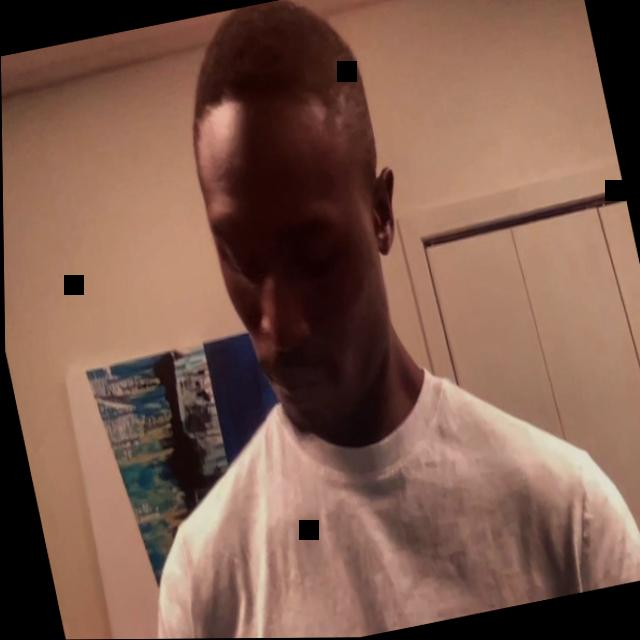NO-Mask: (181, 67, 431, 449)
